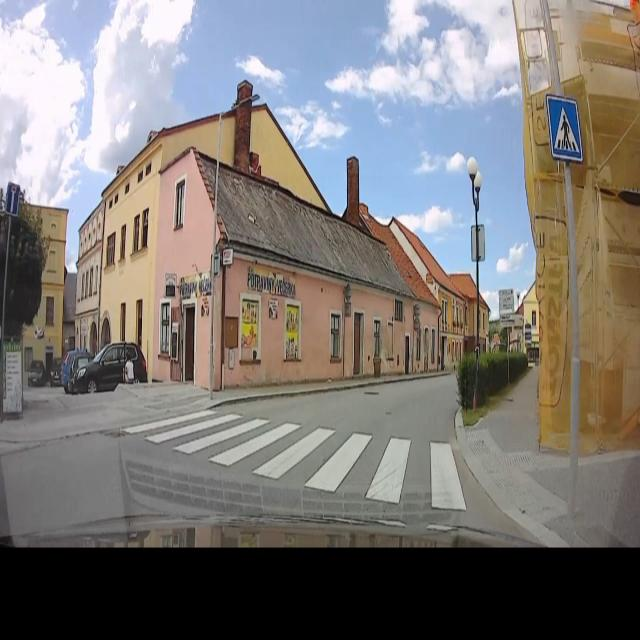Pedestrian crosswalk: (116, 403, 479, 515), (544, 89, 588, 168)
